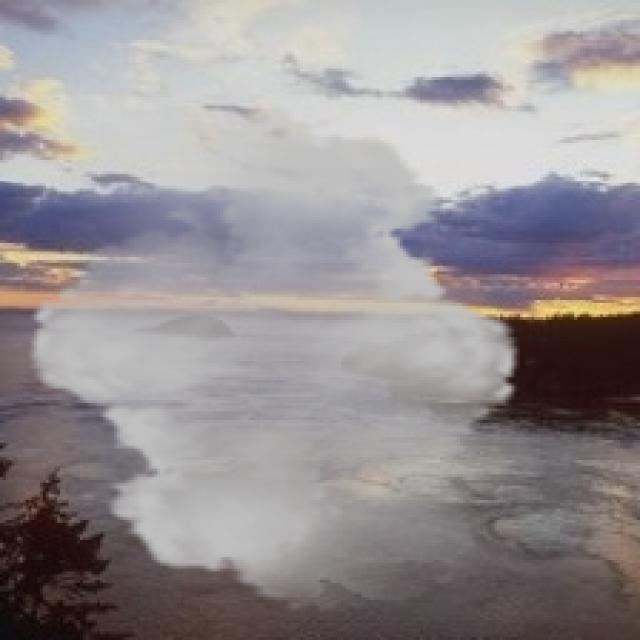Smoke: (8, 94, 540, 612)
